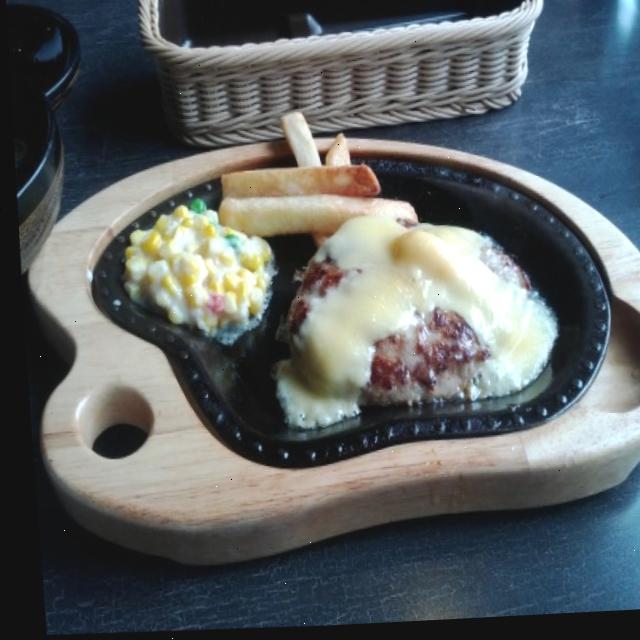炸货点心: (206, 106, 413, 239)
